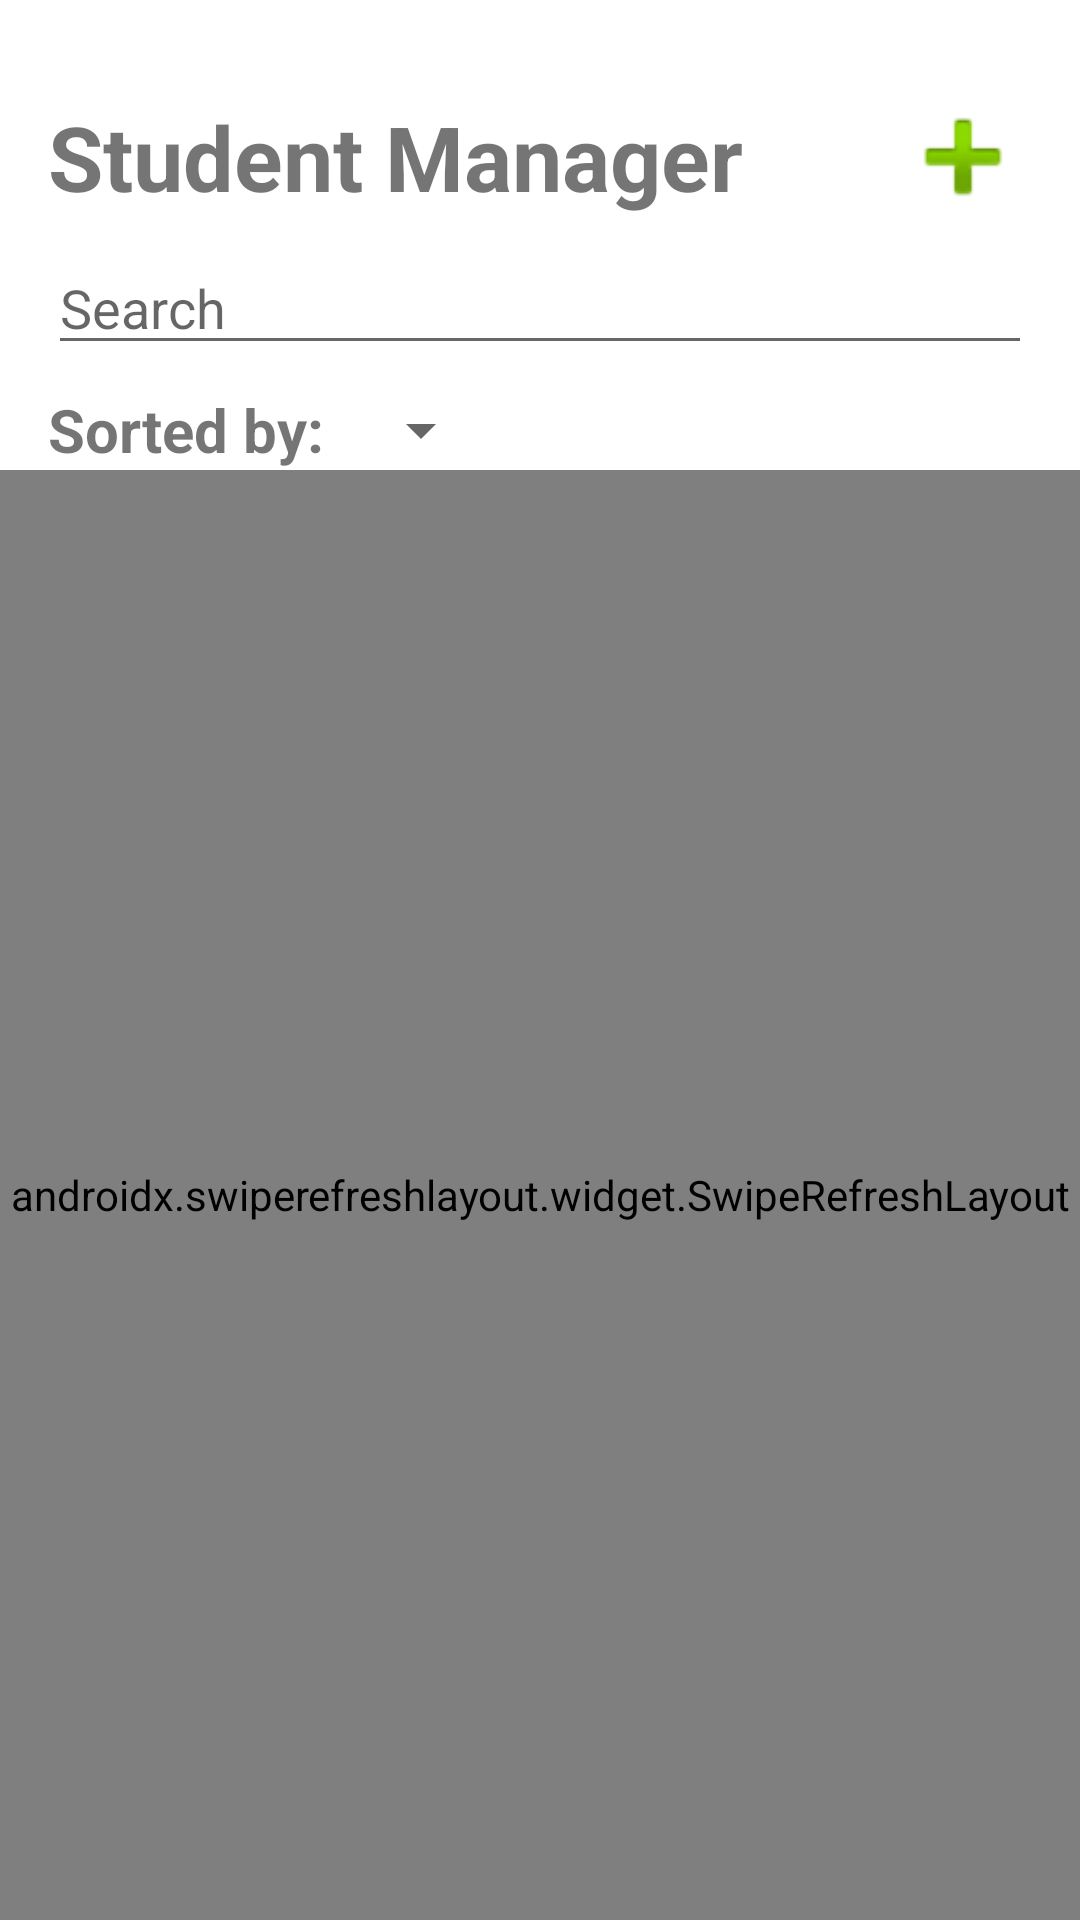

Named icons in this screenshot (1080px x 1920px) and their centers, (x=x, y=y):
add: (x=963, y=157)
